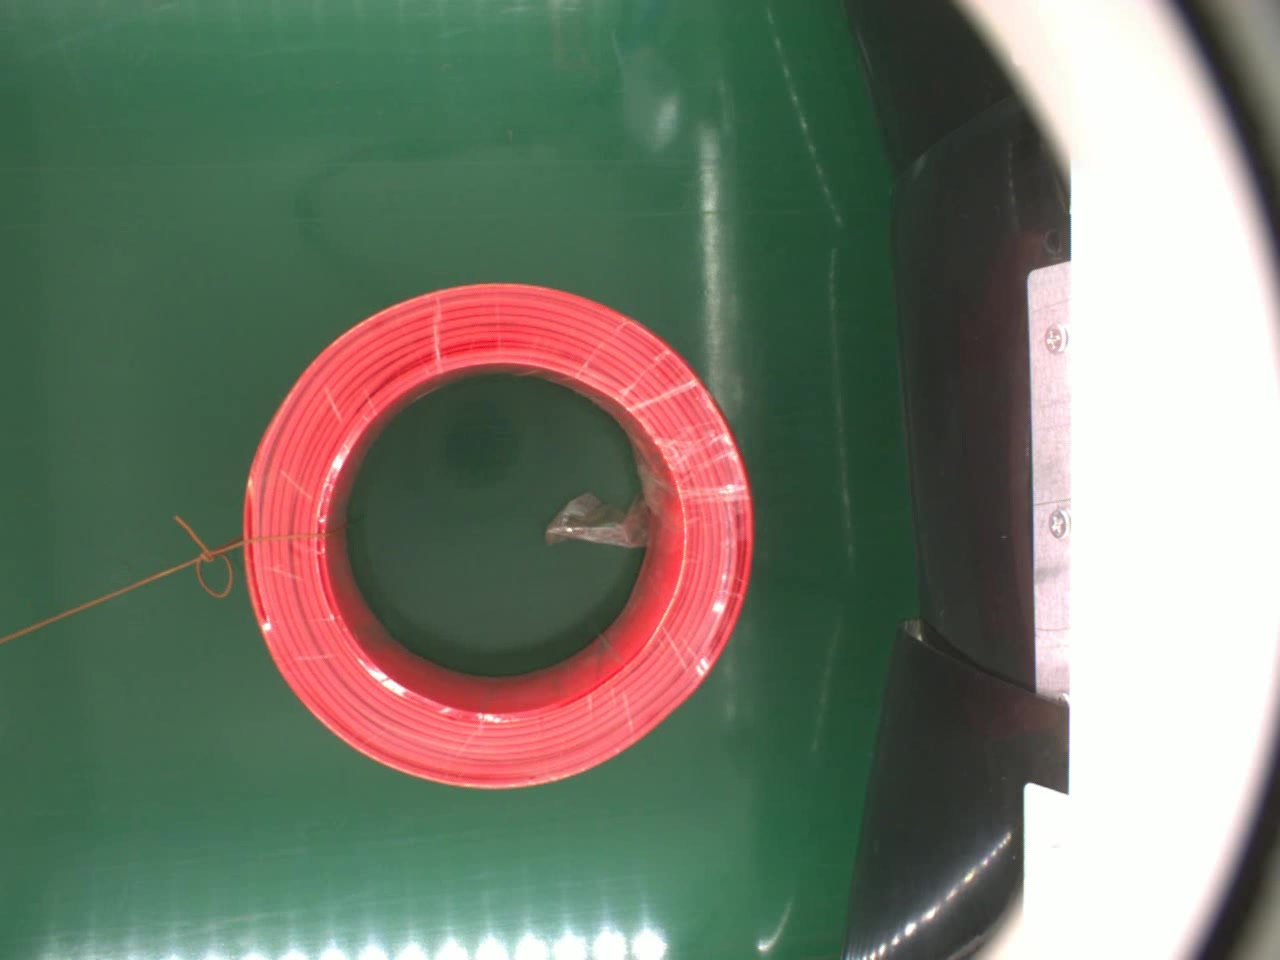red: (239, 280, 754, 787)
